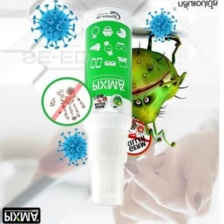cleaning_solution: (80, 3, 133, 209)
